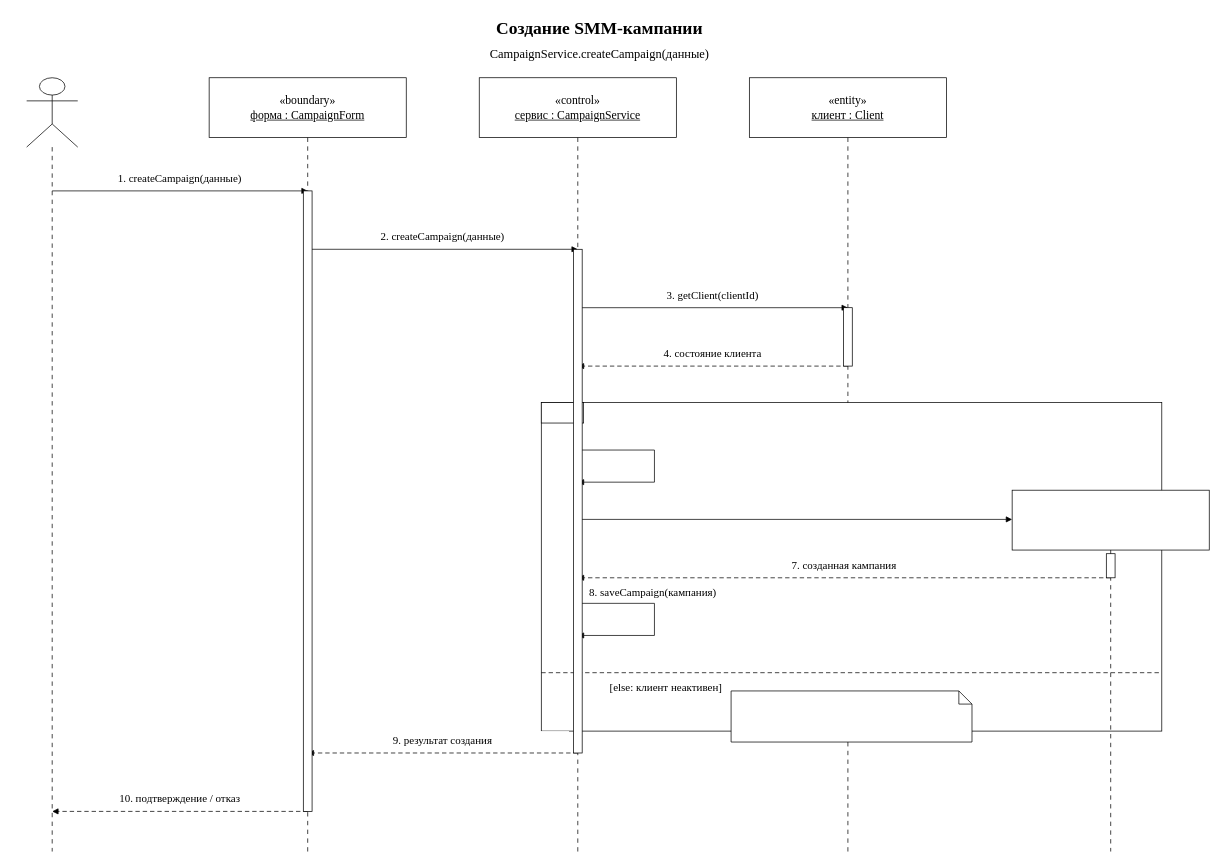
This 1222x865 diagram has some shape labels left out. Here are the shapes that lost their labels. From the top down, the centre of each, then its label:
point (52, 112): SMM-менеджер
point (562, 412): alt
point (703, 438): 5. checkBudget(данные)
point (862, 506): 6. «create» Campaign(данные)
point (1110, 519): «entity» кампания : Campaign
point (851, 716): Кампания не создаётся. Возвращается причина отказа.
